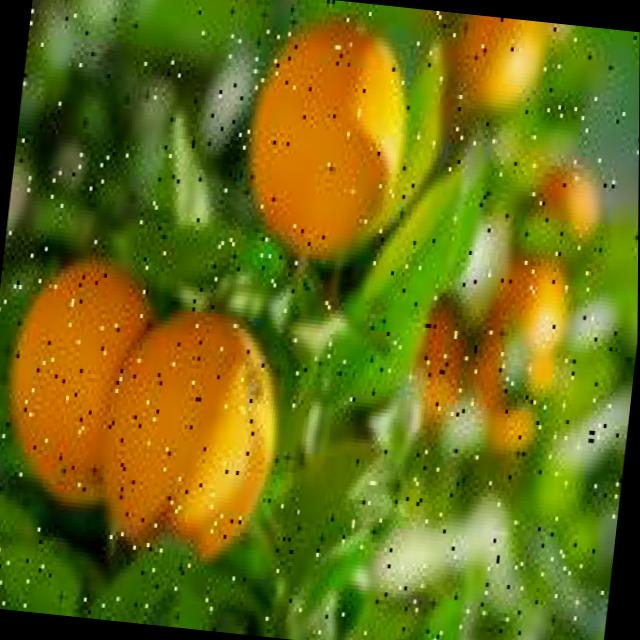orange: (95, 300, 288, 564), (237, 10, 418, 266), (0, 248, 161, 511), (473, 250, 577, 404), (439, 12, 551, 119), (409, 297, 475, 432), (531, 158, 606, 242)
